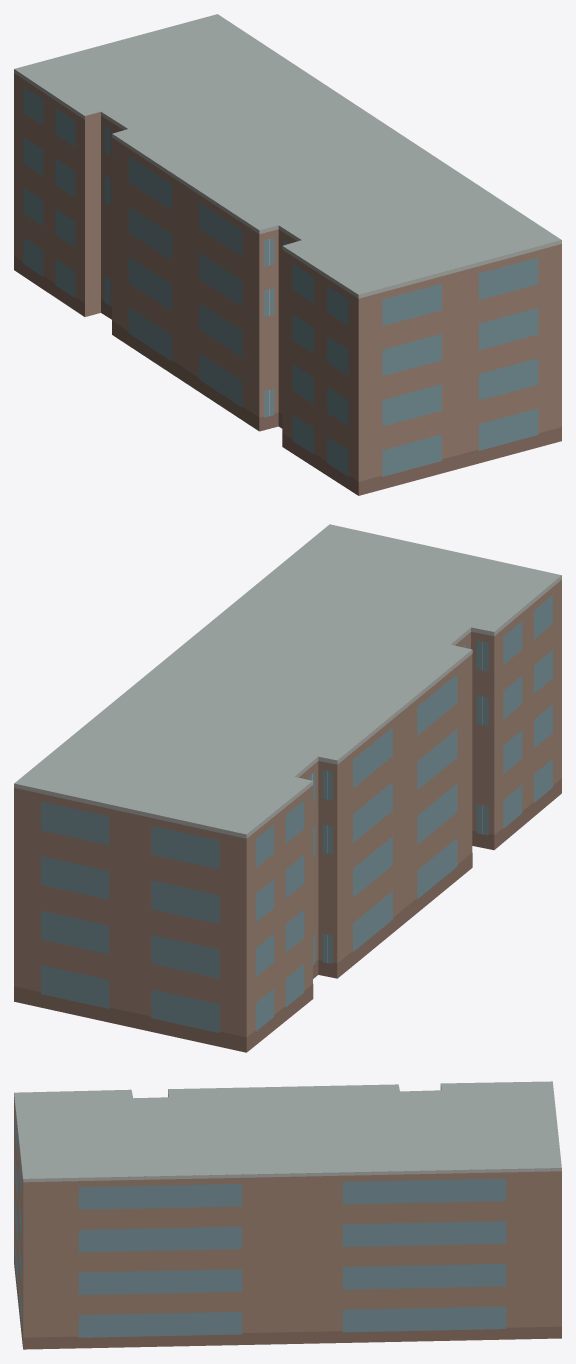
Rendered from survey-upis-32731971.glb.
3 views of the same model, one above another, from view 1: azimuth 30°, elevation 25°; view 2: azimuth 150°, elevation 25°; view 3: azimuth 270°, elevation 25° (orthographic). The views are drawn at different scales.
Visible parts, largest first — view 1: survey-upis-32731971.tmp; view 2: survey-upis-32731971.tmp; view 3: survey-upis-32731971.tmp.
Part boxes in pixels (<box>): survey-upis-32731971.tmp: <box>14,14,561,495</box>; survey-upis-32731971.tmp: <box>14,524,561,1052</box>; survey-upis-32731971.tmp: <box>14,1081,561,1349</box>.
Size of the model in its own units: 15.34 by 12.5 by 36.4.
